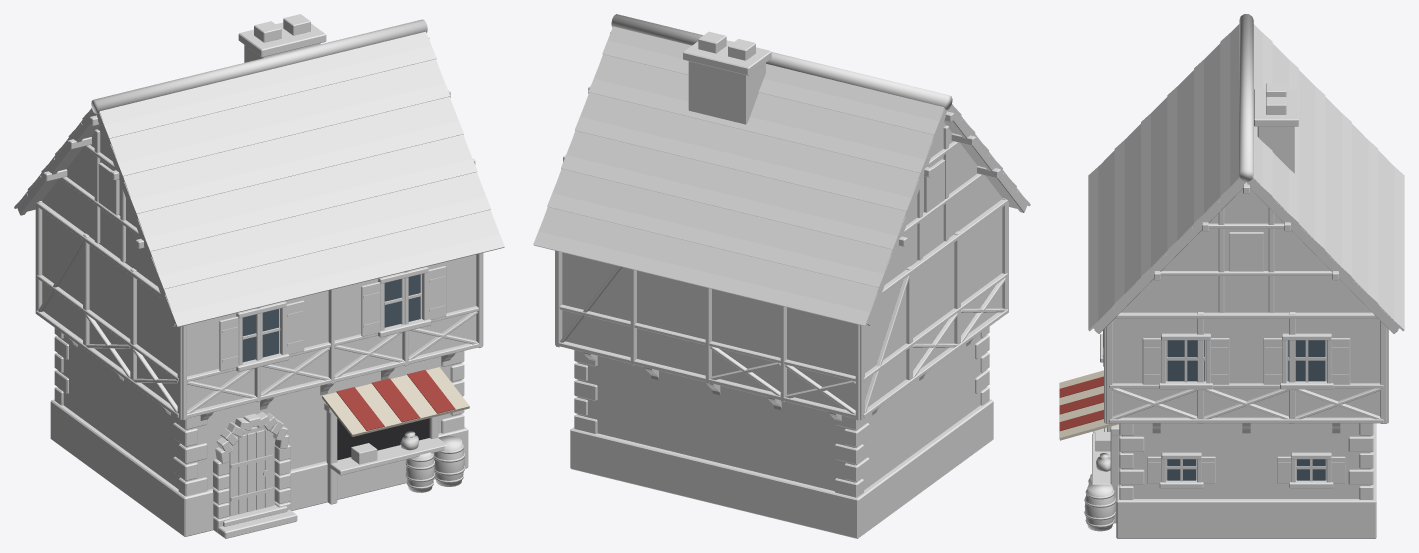
Rendered from col_07_echoppe_auvent.fbx.
3 renders of one model, left to right at view 1: azimuth 30°, elevation 25°; view 2: azimuth 150°, elevation 25°; view 3: azimuth 270°, elevation 25°, orthographic. The views are drawn at different scales.
Parts seen in each view (by area): view 1: col_07_echoppe_auvent_LOD0; view 2: col_07_echoppe_auvent_LOD0; view 3: col_07_echoppe_auvent_LOD0.
Boxes of the visible parts, bbox=[...] form: col_07_echoppe_auvent_LOD0: bbox=[14, 14, 504, 538]; col_07_echoppe_auvent_LOD0: bbox=[533, 14, 1030, 538]; col_07_echoppe_auvent_LOD0: bbox=[1059, 14, 1404, 538].
Size of what is drawn, in the model's own units: 7.84 by 9.12 by 7.2.
